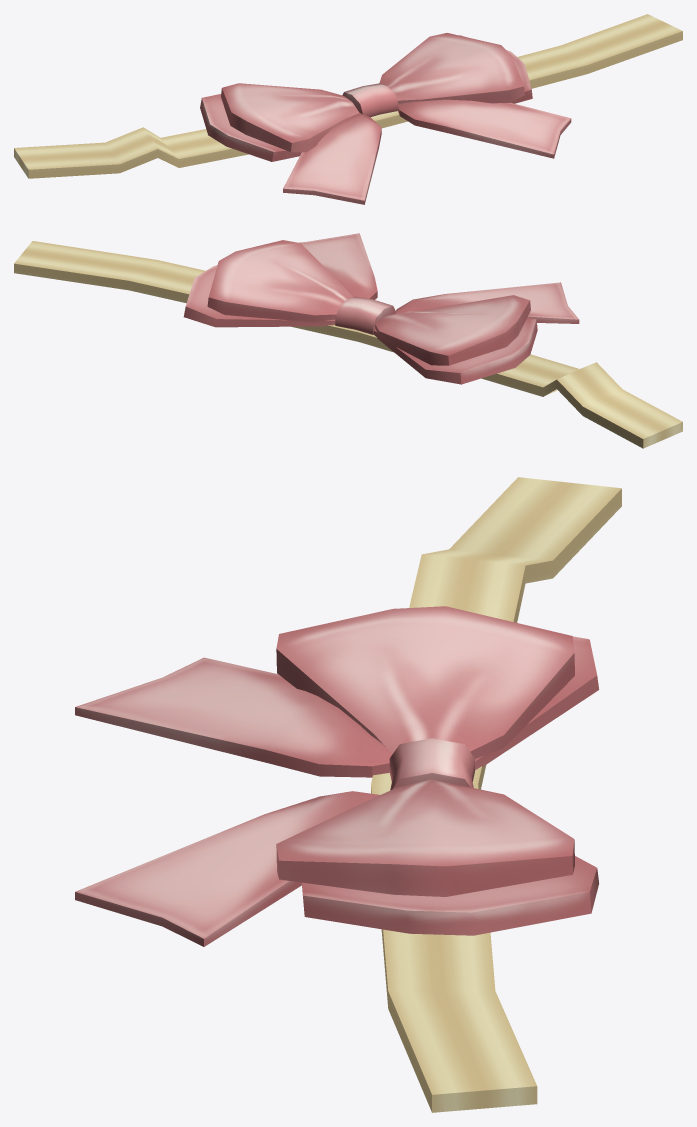
The model's file is NvMingXingJia_02_hudiejie_01.FBX.
The picture shows the model from 3 angles, top to bottom: view 1: azimuth 30°, elevation 25°; view 2: azimuth 150°, elevation 25°; view 3: azimuth 270°, elevation 25°; orthographic projection. The views are drawn at different scales.
Visible parts, largest first — view 1: polySurface2; view 2: polySurface2; view 3: polySurface2.
Part boxes in pixels (x1,y1,x2,y2): polySurface2: (14,14,682,204); polySurface2: (14,233,682,448); polySurface2: (75,477,621,1112).
Bounding box in the file's own units: 279 × 15.68 × 104.
